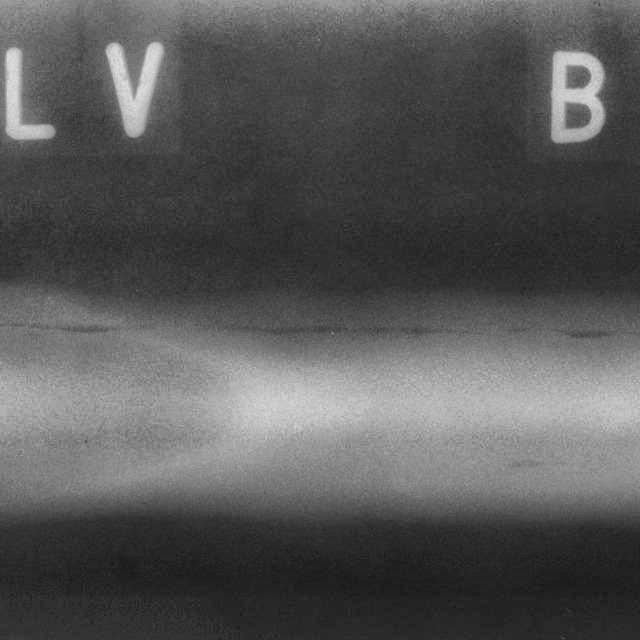LoP-LoF: (1, 300, 640, 368)
